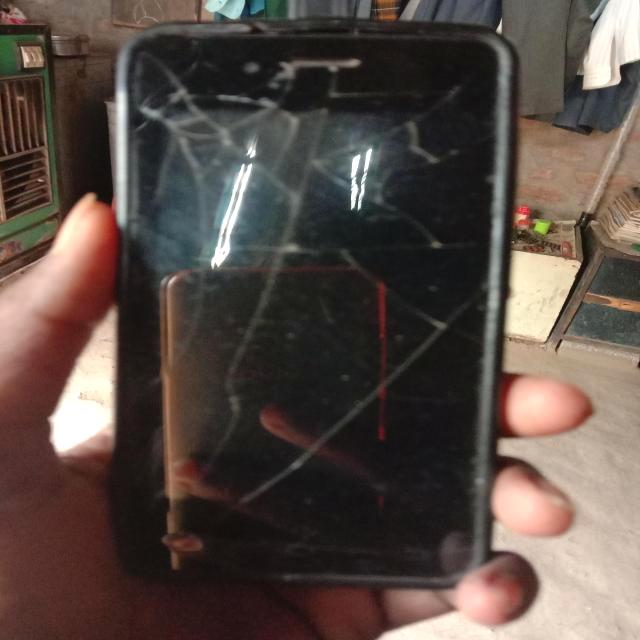phone: (73, 15, 534, 591)
